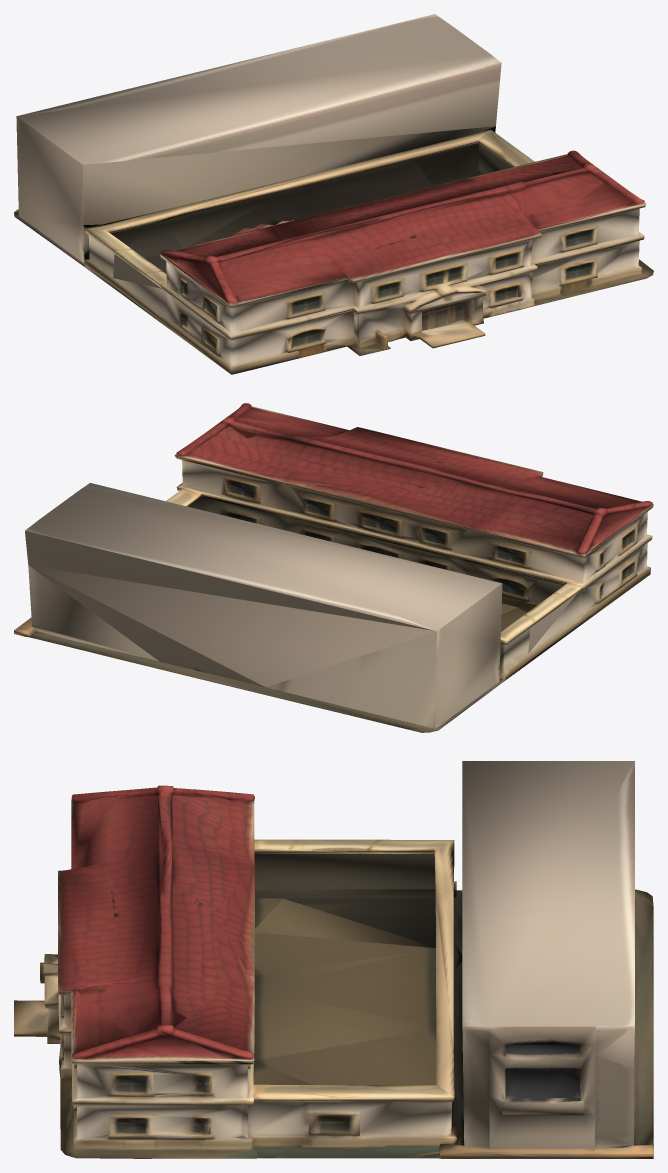
File: BD_Christie.fbx
The picture shows the model from 3 angles, top to bottom: view 1: azimuth 30°, elevation 25°; view 2: azimuth 150°, elevation 25°; view 3: azimuth 270°, elevation 25°; orthographic projection. The views are drawn at different scales.
Parts seen in each view (by area): view 1: model; view 2: model; view 3: model.
Part boxes in pixels (x1,y1,x2,y2): model: (14, 14, 653, 374); model: (14, 403, 653, 732); model: (14, 761, 653, 1158).
Size of the model in its own units: 40 by 40 by 9.
Materials: 1 (1 with a texture image).
